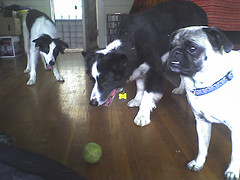tennis ball: (80, 141, 104, 165)
